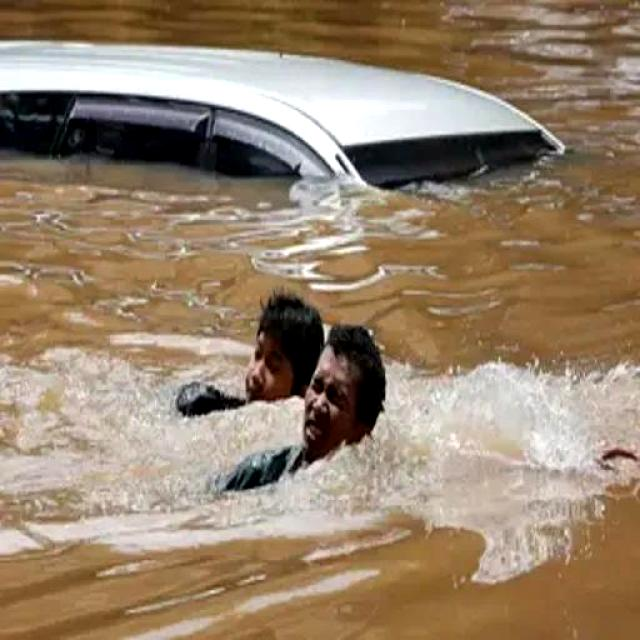civilian: (200, 324, 400, 528), (173, 271, 319, 440)
